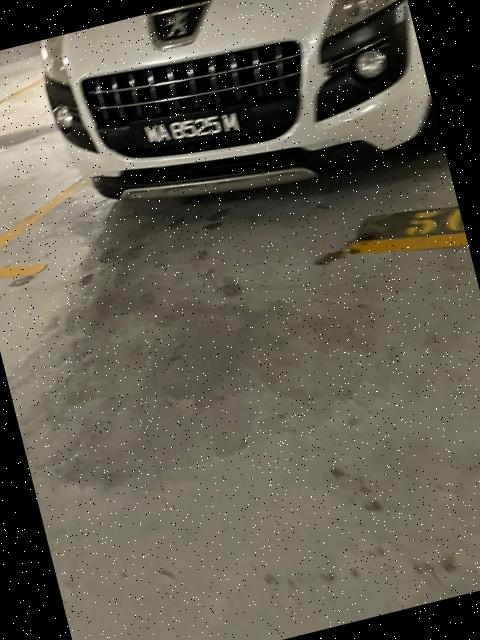License_Plate: (123, 91, 262, 169)
car: (18, 1, 452, 268)
